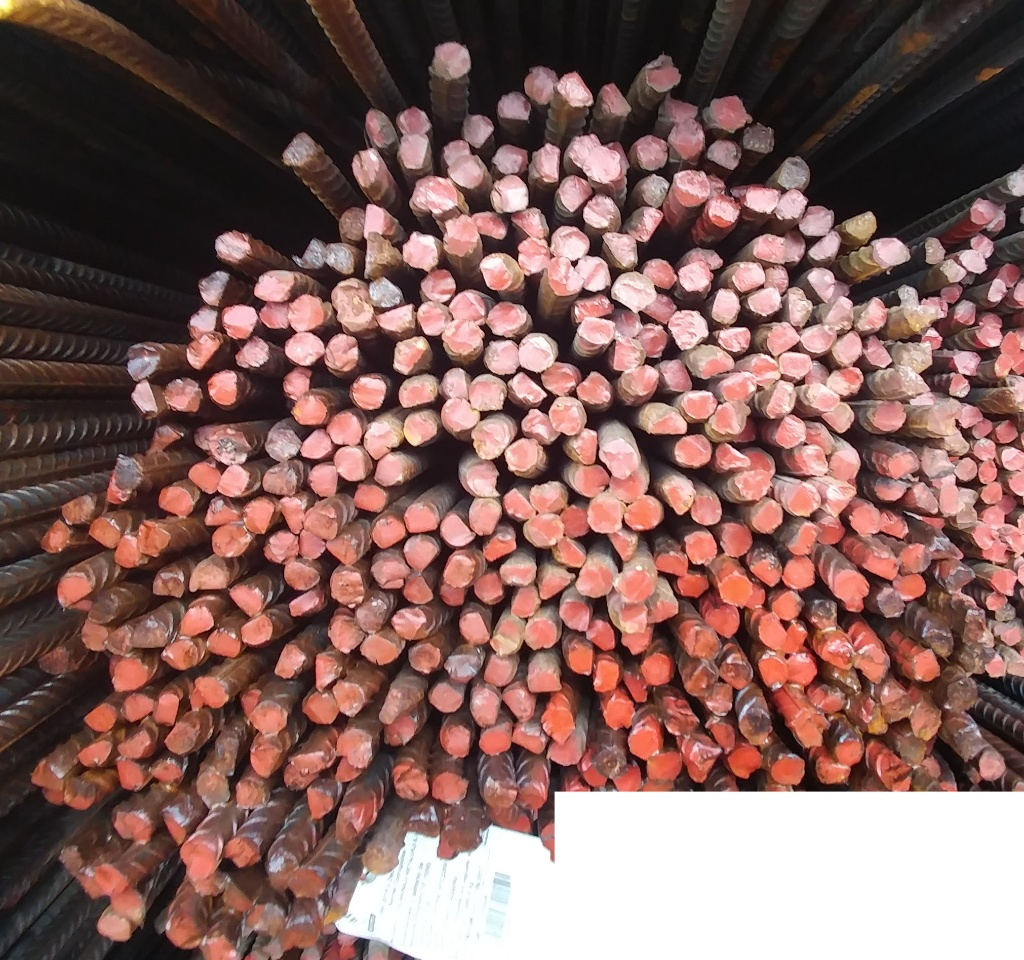dipstick: (331, 278, 371, 334), (614, 269, 654, 311), (473, 418, 511, 461), (443, 214, 481, 256), (668, 311, 710, 349), (371, 549, 407, 593), (662, 694, 698, 737), (815, 633, 858, 669), (182, 841, 218, 882), (493, 173, 528, 215), (547, 256, 583, 296), (398, 375, 439, 410), (330, 567, 365, 608), (552, 396, 586, 438), (109, 457, 138, 506), (462, 460, 499, 498), (335, 729, 372, 767), (615, 565, 653, 602), (672, 121, 707, 161), (680, 623, 720, 658), (472, 373, 505, 415), (326, 333, 358, 376), (192, 560, 229, 597), (197, 770, 234, 807), (579, 561, 615, 599), (165, 912, 201, 950), (520, 406, 555, 445), (210, 523, 250, 557), (537, 562, 571, 602), (620, 662, 651, 705), (605, 232, 642, 268), (553, 223, 589, 260), (708, 94, 747, 128), (206, 368, 237, 410), (165, 379, 201, 415), (225, 837, 261, 873), (433, 40, 470, 75), (557, 70, 592, 107), (676, 261, 713, 296), (442, 399, 477, 436), (391, 764, 428, 799), (754, 615, 789, 652), (620, 365, 658, 399), (348, 376, 386, 410), (958, 598, 986, 644), (501, 488, 534, 527), (793, 708, 826, 747), (651, 52, 682, 93), (523, 515, 564, 546), (730, 259, 766, 294), (519, 337, 554, 373), (589, 498, 624, 534), (681, 660, 717, 695), (521, 65, 555, 102), (404, 535, 438, 572), (675, 168, 708, 206), (475, 569, 508, 607), (835, 573, 868, 611), (580, 255, 612, 294), (351, 147, 380, 190), (241, 496, 272, 536), (664, 475, 694, 516), (403, 235, 438, 270), (222, 304, 257, 339), (447, 321, 482, 356), (263, 531, 299, 565), (329, 413, 363, 449), (403, 411, 437, 447), (251, 702, 287, 736), (364, 110, 397, 147), (602, 440, 635, 477), (190, 677, 227, 710), (305, 690, 338, 727), (876, 752, 909, 789), (276, 494, 305, 536), (283, 333, 322, 364), (911, 704, 942, 743), (575, 463, 610, 497), (214, 736, 243, 777), (515, 207, 551, 240), (289, 296, 325, 329), (897, 340, 933, 373), (716, 573, 752, 606), (864, 546, 900, 579), (398, 130, 430, 167), (480, 253, 512, 290), (337, 444, 369, 481), (439, 723, 471, 760), (209, 431, 249, 460), (110, 660, 150, 689), (709, 139, 744, 172), (372, 454, 405, 489), (542, 706, 575, 741), (453, 291, 489, 323), (685, 743, 717, 779), (758, 655, 790, 691), (706, 716, 738, 752), (861, 298, 889, 339), (233, 339, 270, 370), (578, 369, 609, 406), (205, 496, 242, 527), (558, 598, 589, 635), (603, 694, 634, 731), (367, 420, 397, 458), (330, 614, 360, 652), (248, 904, 286, 934), (491, 144, 530, 173), (374, 306, 413, 335), (139, 521, 168, 560), (306, 501, 335, 540), (586, 148, 620, 181), (126, 344, 160, 377), (489, 302, 523, 335), (677, 434, 711, 467), (393, 606, 426, 640), (817, 753, 851, 786), (809, 596, 843, 629), (510, 374, 545, 406), (480, 776, 515, 808), (919, 761, 954, 793), (648, 290, 679, 326), (875, 236, 911, 267), (40, 519, 71, 555), (613, 469, 649, 500), (564, 641, 595, 677), (764, 322, 801, 352), (503, 684, 533, 721), (160, 808, 189, 846), (471, 686, 500, 724), (129, 381, 157, 420), (418, 302, 451, 335), (486, 340, 519, 373), (822, 298, 855, 331), (785, 557, 818, 590), (771, 752, 804, 785), (893, 365, 927, 397), (829, 366, 863, 398), (432, 770, 464, 804), (444, 545, 478, 577), (685, 531, 717, 565), (752, 500, 784, 534), (726, 746, 760, 778), (923, 622, 957, 654), (519, 239, 550, 274), (540, 362, 575, 393), (712, 404, 747, 435), (285, 560, 320, 591), (805, 265, 835, 301), (470, 498, 497, 538), (734, 470, 771, 499), (159, 486, 196, 515), (337, 803, 366, 840), (492, 615, 521, 652), (547, 735, 584, 764), (442, 823, 480, 851), (824, 664, 862, 692), (778, 156, 810, 189), (195, 273, 228, 305), (394, 339, 426, 372), (534, 481, 566, 514), (406, 641, 439, 673), (676, 567, 708, 600), (637, 135, 668, 169), (421, 269, 455, 300), (661, 360, 695, 391), (231, 584, 262, 618), (351, 481, 385, 512), (508, 586, 542, 617), (720, 523, 751, 557), (430, 176, 457, 215), (255, 272, 294, 299), (716, 326, 755, 353), (281, 365, 311, 400), (747, 286, 782, 316), (823, 480, 853, 515), (168, 723, 198, 758), (741, 709, 771, 744), (662, 92, 698, 121), (631, 204, 660, 240), (213, 231, 249, 260), (687, 244, 723, 273), (860, 644, 889, 680), (914, 647, 943, 683), (712, 290, 740, 327), (326, 244, 358, 276), (626, 499, 658, 531), (115, 890, 147, 922), (609, 531, 641, 563), (614, 336, 647, 367), (508, 440, 539, 473), (441, 513, 472, 546), (871, 399, 905, 429), (263, 463, 297, 493), (217, 465, 251, 495), (115, 535, 145, 569), (789, 482, 818, 517), (55, 573, 90, 602), (362, 634, 397, 663), (643, 652, 672, 687), (835, 728, 864, 763), (812, 684, 847, 713), (283, 918, 318, 947), (585, 190, 613, 226), (755, 231, 783, 267), (651, 589, 678, 626), (180, 605, 212, 636), (430, 681, 462, 712), (525, 617, 557, 648), (554, 537, 585, 569), (708, 606, 739, 638), (719, 657, 751, 688), (561, 174, 591, 207), (150, 426, 183, 456), (630, 723, 660, 756), (816, 515, 846, 548), (289, 397, 327, 423), (861, 701, 890, 735), (646, 255, 674, 290), (577, 316, 612, 344), (439, 575, 467, 610), (578, 751, 606, 786), (694, 492, 722, 527), (751, 551, 779, 586), (573, 294, 612, 319), (641, 323, 666, 362), (534, 144, 561, 180), (136, 619, 167, 650), (485, 655, 516, 686), (598, 746, 629, 777), (463, 115, 493, 147), (187, 335, 217, 367), (922, 446, 952, 478), (724, 373, 756, 403), (648, 408, 688, 432), (745, 447, 777, 477), (189, 462, 219, 494), (310, 464, 339, 497), (372, 519, 405, 548), (122, 815, 155, 844), (264, 852, 293, 885), (208, 628, 242, 656), (572, 431, 600, 465), (292, 869, 326, 897), (501, 558, 535, 586), (885, 688, 913, 722), (601, 82, 626, 120), (364, 242, 391, 277), (696, 350, 731, 377), (30, 762, 65, 789), (277, 645, 303, 681), (789, 652, 815, 688), (260, 301, 291, 331), (371, 278, 401, 309), (685, 390, 716, 420), (744, 123, 776, 152), (809, 233, 838, 265), (834, 334, 866, 363), (926, 406, 955, 438), (745, 352, 777, 381), (80, 741, 117, 766), (335, 682, 360, 719), (286, 132, 314, 165), (803, 382, 836, 410), (85, 706, 118, 734), (251, 741, 279, 774), (235, 777, 268, 805), (480, 532, 513, 560), (787, 286, 810, 326), (450, 158, 484, 185), (801, 325, 835, 352), (59, 497, 97, 521), (595, 656, 619, 694), (443, 655, 478, 681), (526, 668, 561, 694), (619, 627, 654, 653), (647, 751, 682, 777), (654, 548, 689, 574), (266, 426, 296, 456), (479, 726, 509, 756), (789, 520, 814, 556), (802, 206, 833, 235), (190, 306, 219, 337), (442, 368, 471, 399), (328, 536, 359, 565), (122, 731, 153, 760), (364, 845, 395, 874), (405, 573, 434, 604), (773, 589, 802, 620), (902, 542, 931, 573), (947, 677, 976, 708), (570, 132, 598, 164), (301, 430, 333, 458), (305, 786, 333, 818), (864, 335, 891, 368), (886, 450, 919, 477), (163, 644, 196, 671), (511, 727, 544, 754), (293, 749, 330, 773), (956, 723, 980, 760), (744, 186, 778, 212), (339, 207, 365, 241), (853, 501, 879, 535), (314, 654, 340, 688), (398, 106, 433, 131), (614, 307, 643, 337), (799, 445, 828, 475), (123, 693, 153, 722), (56, 846, 86, 875), (221, 881, 251, 910), (357, 601, 386, 631), (517, 781, 546, 811), (587, 621, 616, 651), (895, 573, 925, 602), (297, 239, 325, 270), (244, 616, 272, 647), (618, 602, 646, 633), (877, 586, 905, 617), (843, 214, 876, 240), (807, 419, 833, 452), (152, 571, 185, 597), (64, 781, 97, 807), (110, 623, 135, 657), (639, 175, 667, 205), (711, 196, 739, 226), (952, 348, 982, 376), (715, 443, 745, 471), (297, 530, 325, 560), (405, 505, 435, 533), (499, 91, 530, 118), (880, 509, 907, 540), (89, 517, 120, 544), (901, 734, 928, 765), (914, 482, 939, 515), (979, 748, 1004, 781), (479, 210, 506, 240), (154, 693, 181, 723), (386, 718, 413, 748), (780, 190, 806, 221), (767, 384, 793, 415), (99, 864, 125, 895), (410, 175, 430, 215), (780, 416, 805, 448), (831, 448, 855, 481), (199, 936, 232, 960), (442, 140, 469, 169), (826, 402, 853, 431), (764, 266, 790, 296), (779, 351, 809, 377), (385, 689, 415, 715), (405, 817, 442, 838), (710, 685, 735, 716), (930, 534, 961, 559), (281, 765, 314, 788), (335, 759, 364, 785), (944, 566, 974, 591), (987, 569, 1017, 594), (964, 643, 989, 673), (460, 613, 484, 644), (941, 481, 961, 518), (40, 650, 77, 670), (87, 595, 113, 623), (82, 623, 108, 651), (115, 760, 143, 786), (617, 763, 643, 791), (876, 477, 909, 499), (289, 592, 318, 617), (365, 204, 385, 240), (190, 427, 220, 451), (110, 809, 134, 839), (482, 806, 516, 827), (237, 688, 260, 719), (79, 869, 101, 901), (807, 360, 834, 386), (960, 488, 977, 529), (998, 388, 1023, 415), (783, 230, 804, 262), (97, 911, 134, 929), (1003, 525, 1024, 556), (922, 237, 945, 264), (971, 525, 998, 548), (906, 309, 935, 330), (151, 761, 180, 782), (960, 249, 985, 273), (972, 198, 996, 223), (976, 326, 1003, 348), (993, 353, 1014, 381), (923, 296, 948, 319), (981, 309, 1007, 331), (994, 420, 1017, 444), (943, 259, 968, 281), (952, 302, 978, 323), (1008, 169, 1024, 203), (959, 403, 981, 427), (738, 419, 759, 444), (39, 788, 68, 806), (999, 622, 1022, 644), (1000, 447, 1024, 468), (972, 439, 997, 459), (985, 547, 1012, 565), (983, 504, 1004, 527), (956, 458, 977, 481), (973, 233, 993, 257), (939, 281, 963, 301), (976, 461, 1000, 481), (980, 481, 1001, 503), (987, 280, 1007, 303), (709, 170, 726, 197), (1001, 261, 1020, 285), (951, 373, 970, 397), (1007, 471, 1024, 497), (898, 285, 919, 306), (923, 327, 943, 349), (997, 603, 1019, 623), (831, 278, 851, 299), (989, 655, 1005, 681), (989, 210, 1006, 234), (972, 419, 992, 439), (985, 590, 1006, 609), (1002, 331, 1020, 353), (1001, 495, 1018, 514), (1011, 354, 1024, 374)
